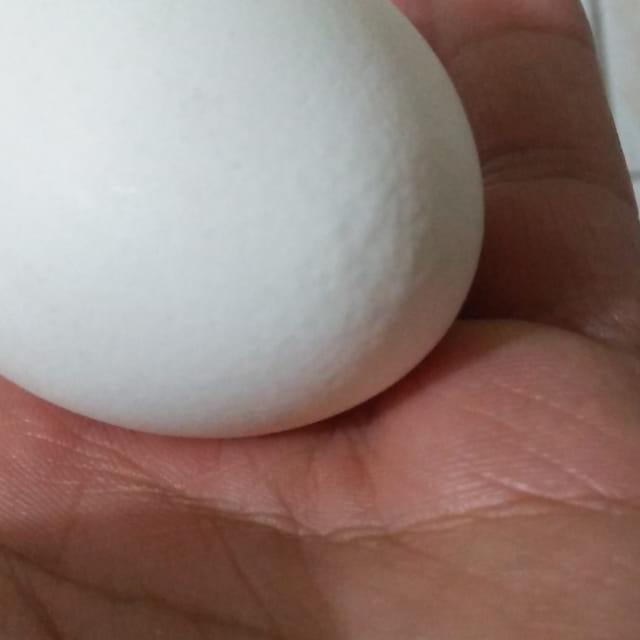egg: (0, 0, 489, 442)
